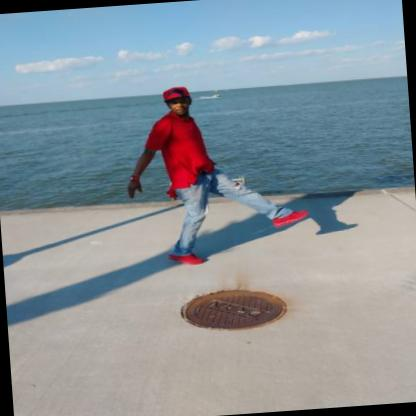manholes: (151, 254, 310, 358)
